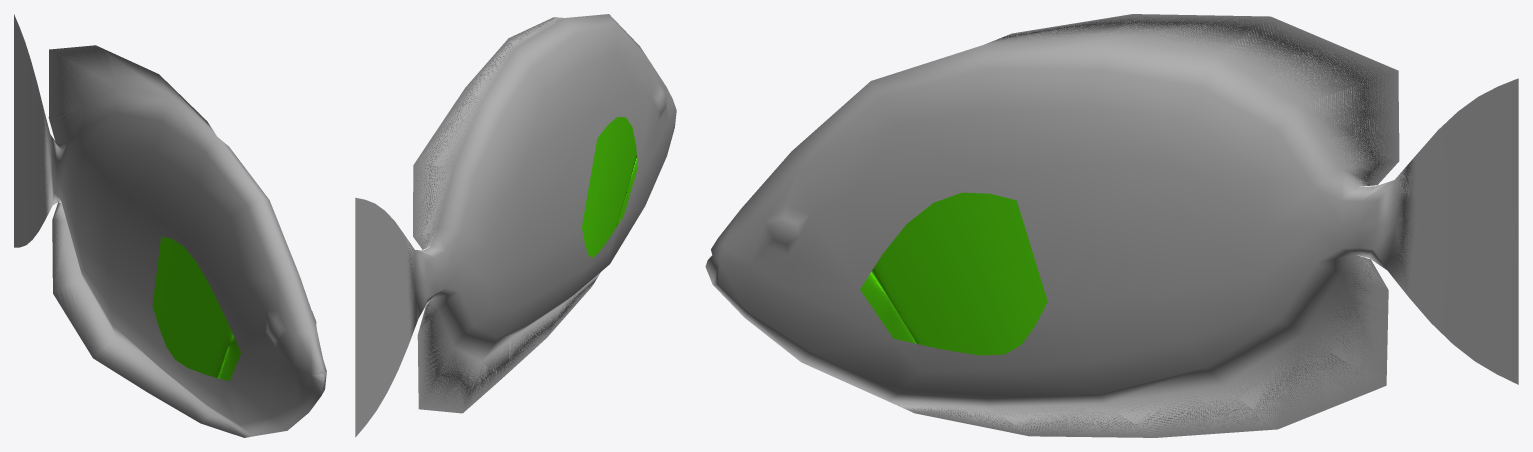
File: Pomacanthidae_B_S.fbx
The picture shows the model from 3 angles, left to right: view 1: azimuth 30°, elevation 25°; view 2: azimuth 150°, elevation 25°; view 3: azimuth 270°, elevation 25°; orthographic projection. The views are drawn at different scales.
Parts seen in each view (by area): view 1: Pomacanthidae_B_S_Mesh; view 2: Pomacanthidae_B_S_Mesh; view 3: Pomacanthidae_B_S_Mesh.
Boxes of the visible parts, x1,y1,x2,y2 form: Pomacanthidae_B_S_Mesh: (14, 14, 326, 437); Pomacanthidae_B_S_Mesh: (355, 14, 676, 437); Pomacanthidae_B_S_Mesh: (705, 14, 1518, 437).
Bounding box in the file's own units: 0.00163 × 0.00573 × 0.00993.
